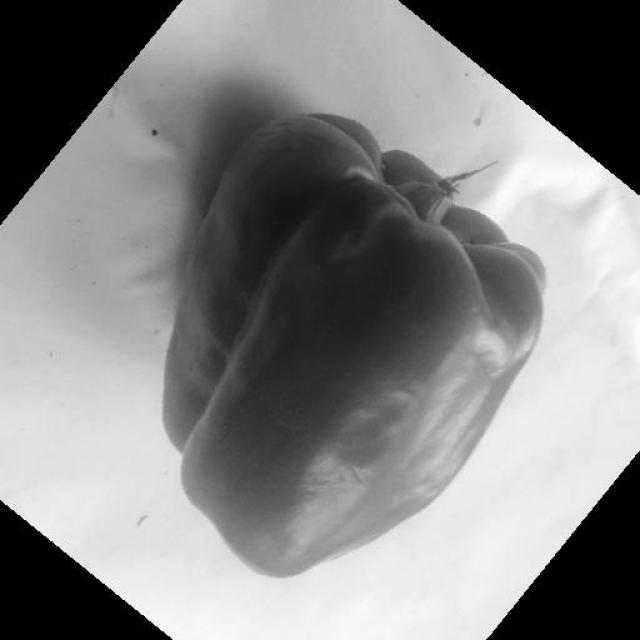Fresh_Capsicum: (280, 110, 478, 510)
